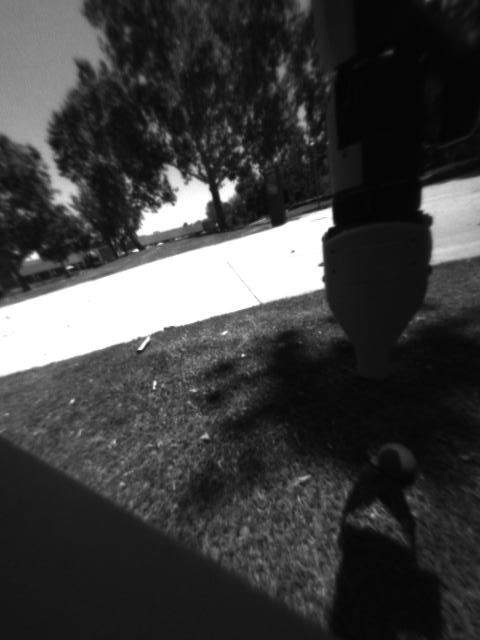dogtoy: (363, 430, 429, 495)
